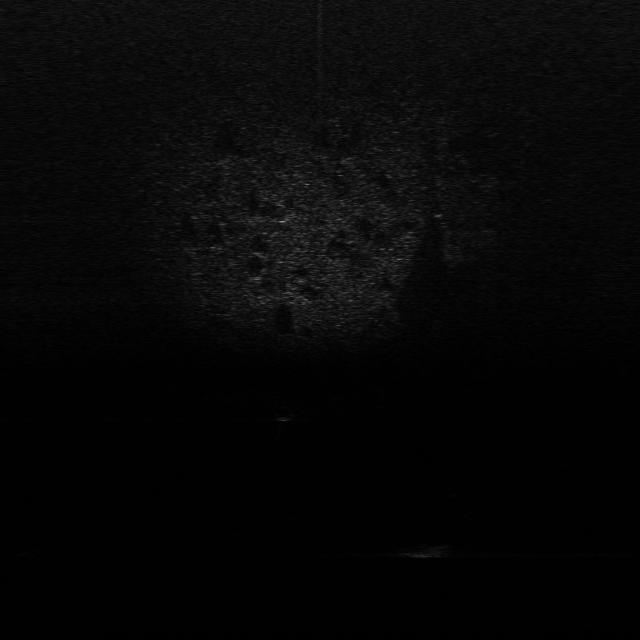ball: (274, 403, 294, 423)
metal bucket: (396, 541, 454, 561)
